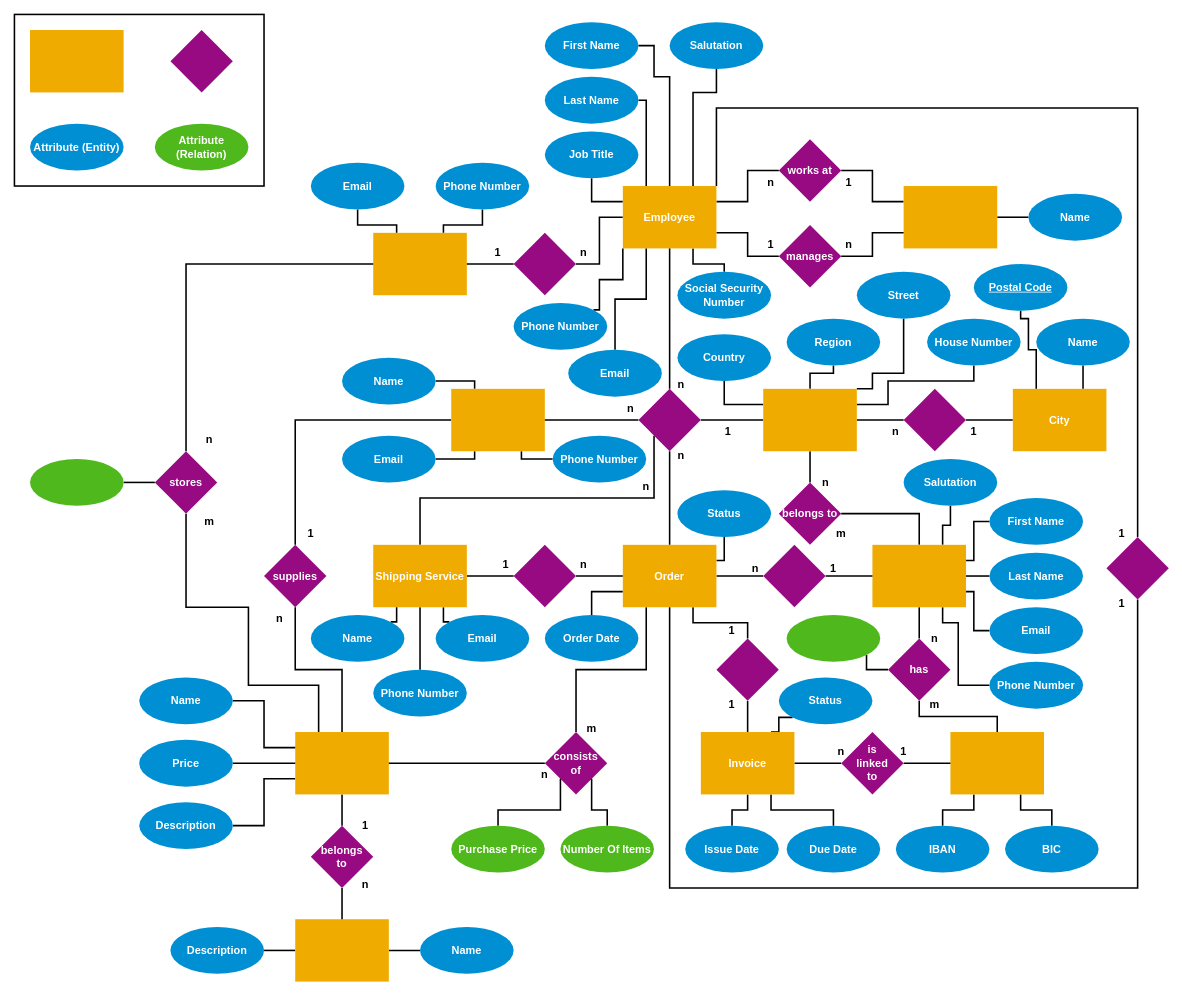
Some shapes in this 1182 by 994 pixel diagram are drawn without their labels. The shapes that lost their labels are listed below. From the top down, each one's centre as x and y in pixels, then its label:
At [76,61]: "Entity".
At [201,61]: "Relation".
At [950,217]: "Department".
At [419,263]: "Warehouse".
At [544,263]: "is workplace of".
At [497,419]: "Supplier".
At [669,419]: "has an".
At [809,419]: "Address".
At [934,419]: "contains".
At [76,482]: "Number in Stock".
At [544,575]: "ships".
At [794,575]: "is made by".
At [919,575]: "Customer".
At [1137,568]: "is in charge of".
At [833,638]: "Default".
At [747,669]: "is paid by".
At [341,763]: "Product".
At [997,763]: "Payment Information".
At [341,950]: "Category".
